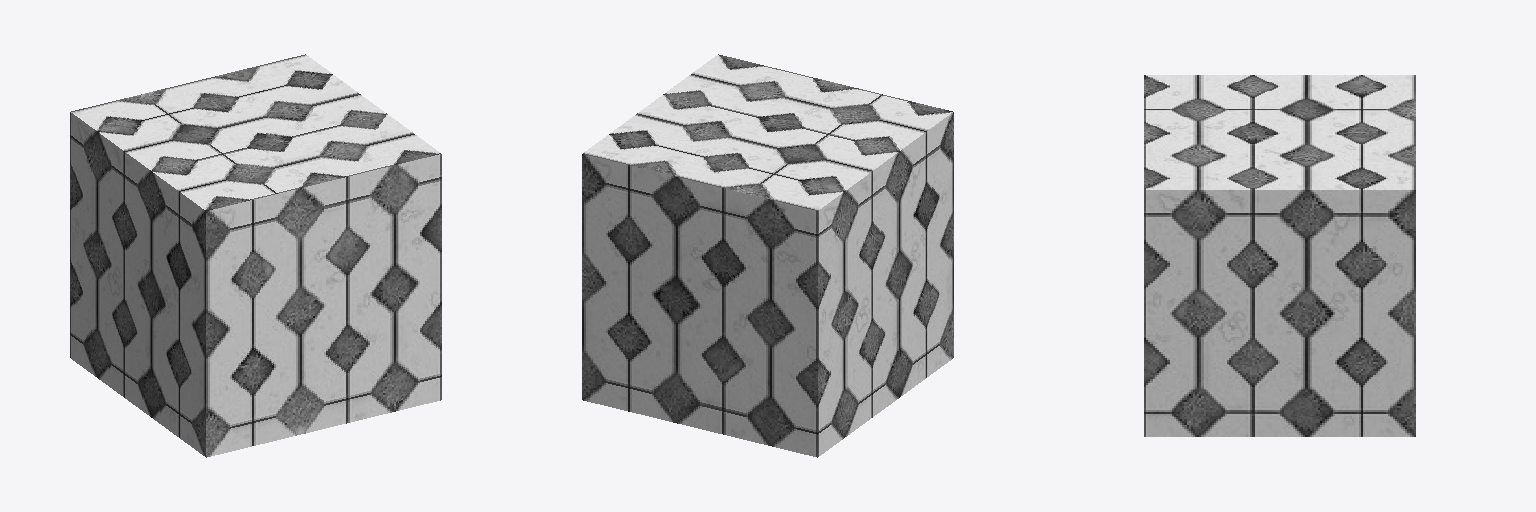
3 renders of one model, left to right at view 1: azimuth 30°, elevation 25°; view 2: azimuth 150°, elevation 25°; view 3: azimuth 270°, elevation 25°, orthographic.
Visible parts, largest first — view 1: 立方体_立方体.001; view 2: 立方体_立方体.001; view 3: 立方体_立方体.001.
Part boxes in pixels (left/top/right/bottom): 立方体_立方体.001: left=70, top=54, right=441, bottom=457; 立方体_立方体.001: left=582, top=54, right=953, bottom=457; 立方体_立方体.001: left=1144, top=75, right=1415, bottom=436.
Bounding box in the file's own units: 2 × 2 × 2.
1 materials, 1 textured.